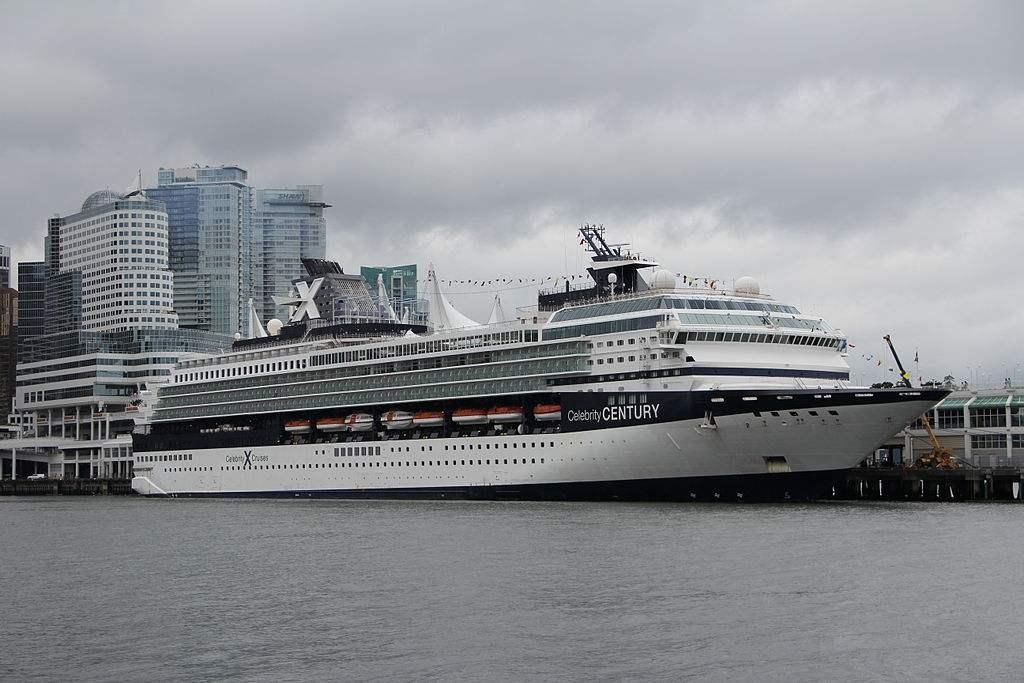youlun: (117, 209, 959, 497)
